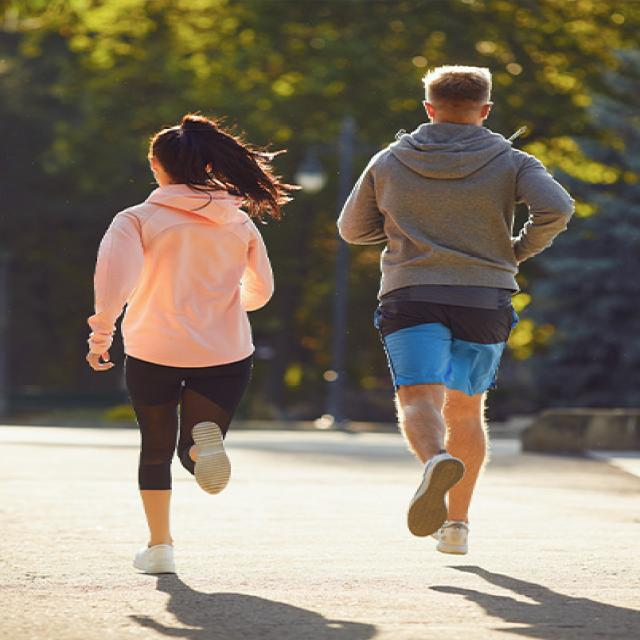Person: (336, 68, 573, 555), (87, 114, 273, 575)
